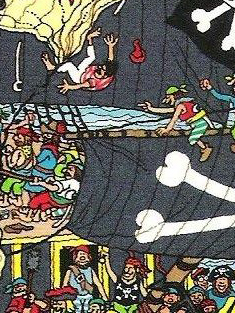waldo: (191, 264, 209, 290)
